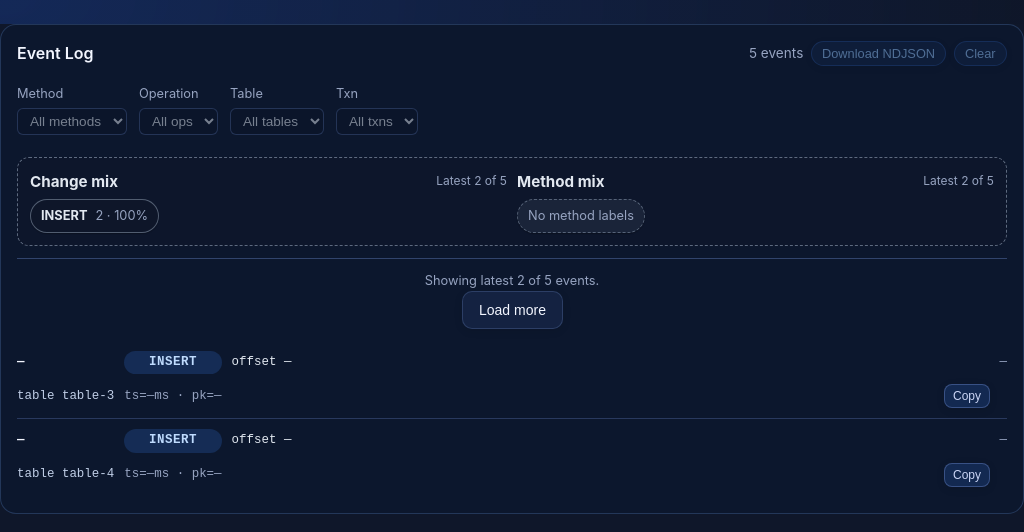
Test: EventLog › lets users load additional historical events on demand
Check: the text "Showing latest 2 of 5 events." is shown, box [425, 273, 599, 288]
Check: the text "table table-4" is shown, box [17, 465, 114, 484]
Click the button "Load more" at x=512, y=310, box [462, 291, 562, 329]
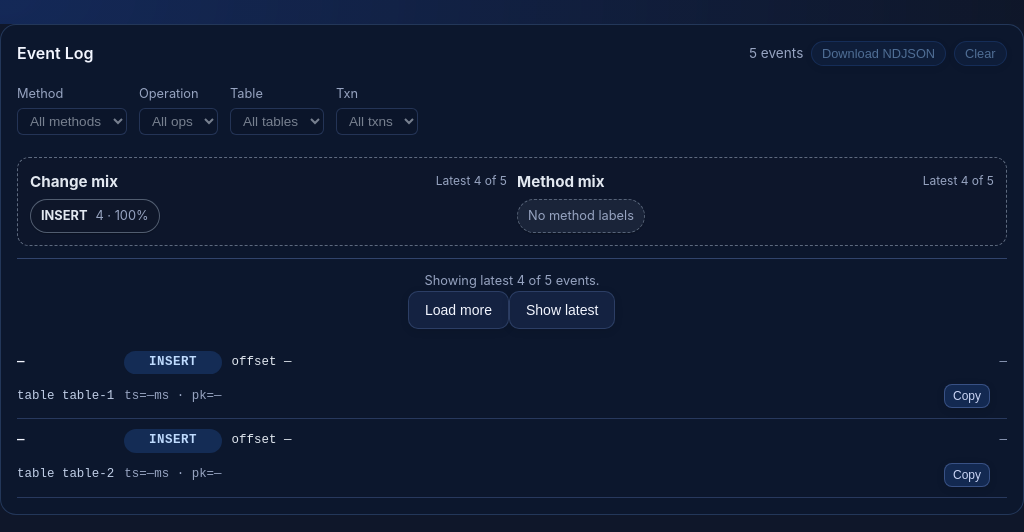
Check: the text "Showing latest 4 of 5 events." is shown, box [424, 273, 599, 288]
Check: the text "table table-1" is shown, box [17, 387, 114, 406]
Click the button "Show latest" at x=562, y=310, box [509, 291, 616, 329]
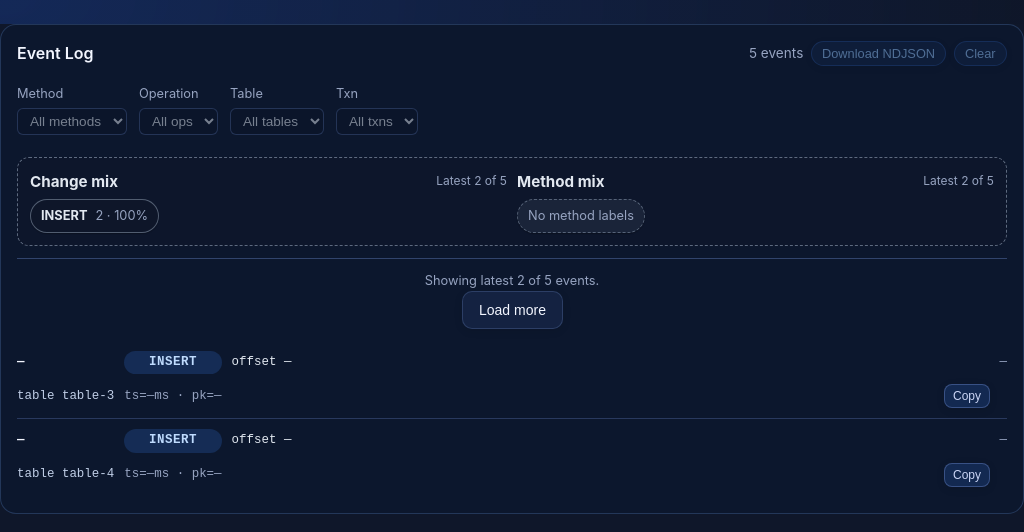
Check: the text "Showing latest 2 of 5 events." is shown, box [425, 273, 599, 288]
Check: the text "table table-1" is gone
